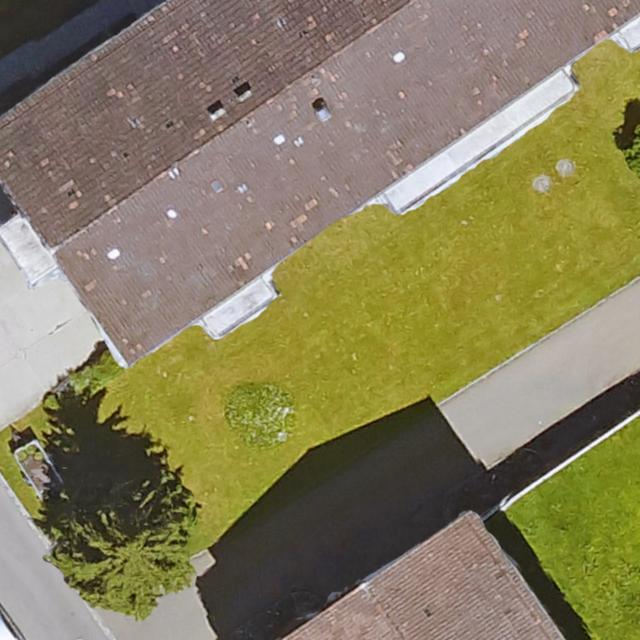tree: (57, 486, 195, 609), (622, 122, 640, 177)
